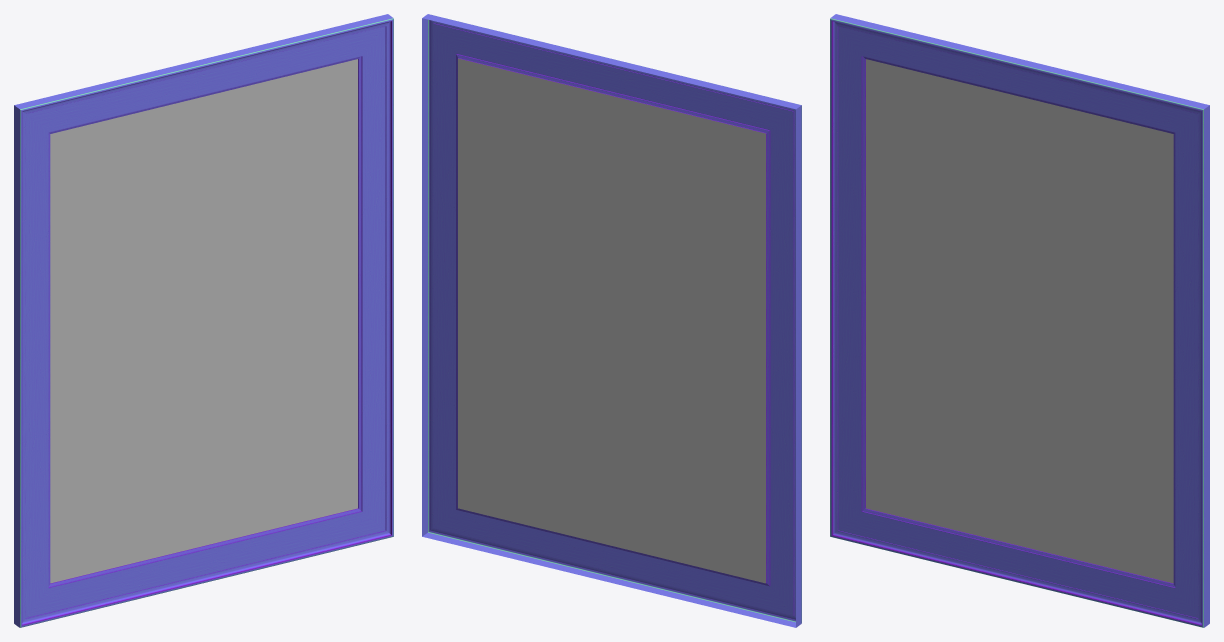
3 views of the same model, side by side, from view 1: azimuth 30°, elevation 25°; view 2: azimuth 150°, elevation 25°; view 3: azimuth 330°, elevation 25° (orthographic).
Visible parts, largest first — view 1: _14_01, _14_01_frame; view 2: _14_01, _14_01_frame; view 3: _14_01, _14_01_frame.
Part boxes in pixels (x1=…): _14_01: x1=50, y1=59, x2=357, y2=583; _14_01_frame: x1=14, y1=14, x2=393, y2=627; _14_01: x1=458, y1=58, x2=765, y2=583; _14_01_frame: x1=422, y1=14, x2=801, y2=627; _14_01: x1=866, y1=59, x2=1173, y2=583; _14_01_frame: x1=830, y1=14, x2=1209, y2=627.
Bounding box in the file's own units: 224 × 297 × 6.31.
